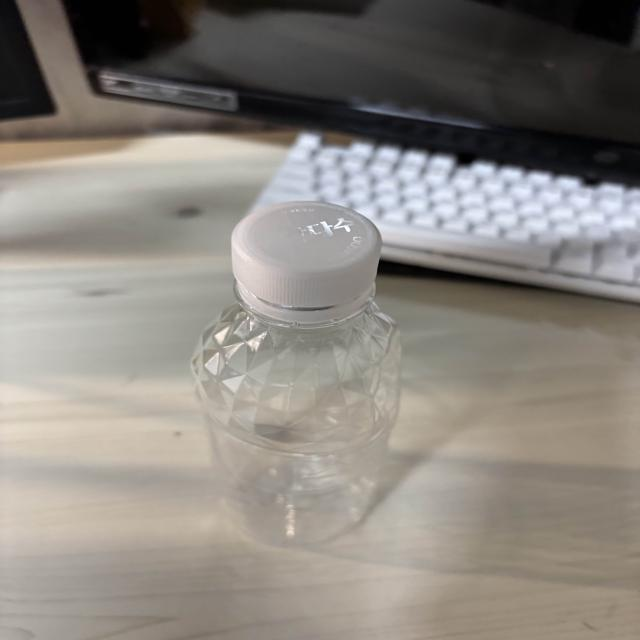Plastic: (182, 199, 405, 572)
